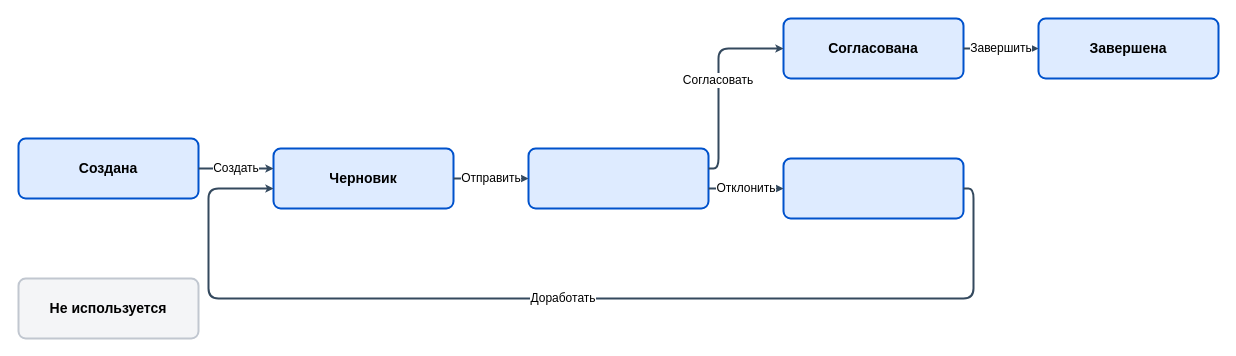
This 1236x356 diagram has some shape labels left out. Each missing label, with the centre of its shape:
На согласовании: point 618,178
Отклонена: point 873,188
